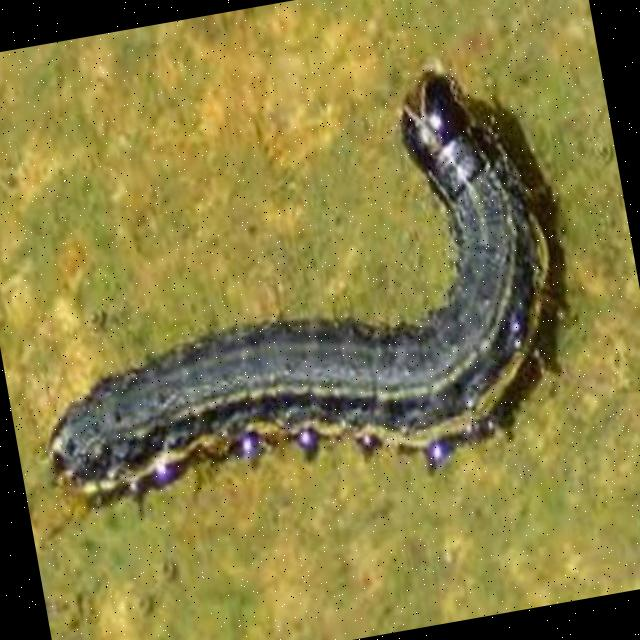worm: (1, 52, 600, 544)
